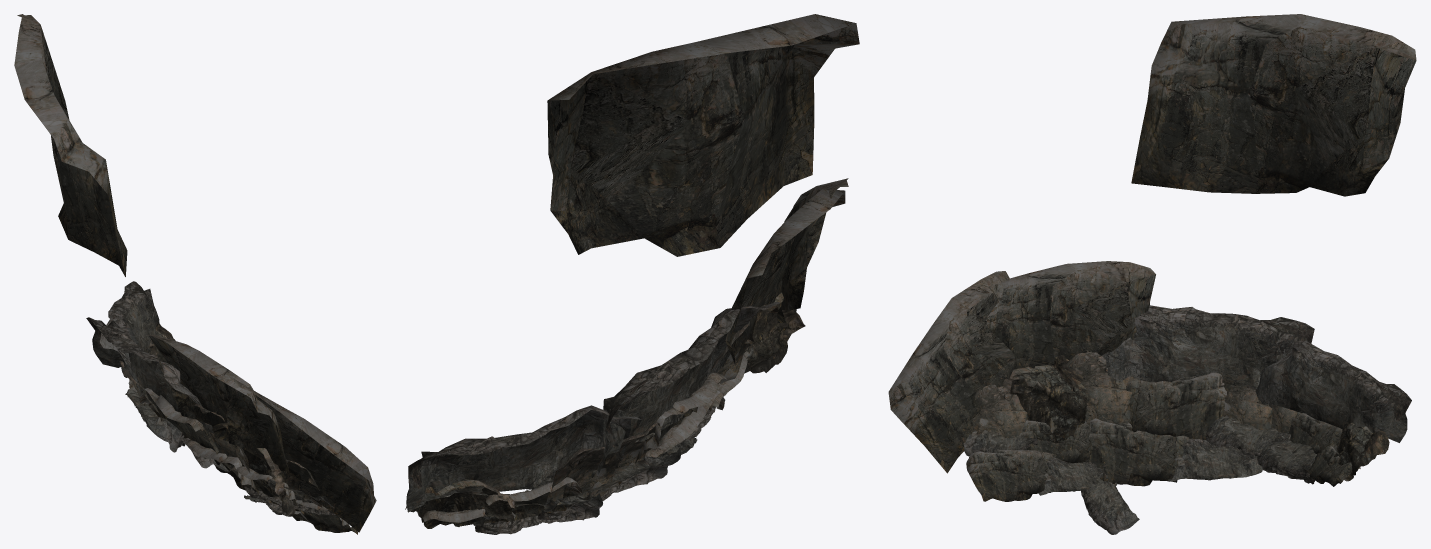
Rendered from PhonoShift_terrain.fbx.
3 views of the same model, side by side, from view 1: azimuth 30°, elevation 25°; view 2: azimuth 150°, elevation 25°; view 3: azimuth 270°, elevation 25° (orthographic). The views are drawn at different scales.
Parts seen in each view (by area): view 1: Rock6.012, Rock6.011, Rock6.010, Rock1.009, Rock1.010, Rock6.005, qjycI_LOD0_TIER3_002.005, Rock1.008, Rock6.006, Rock6.004, Rock6.007, qjycI_LOD0_TIER3_000.004 (+1 smaller); view 2: Rock6.012, Rock1.010, Rock1.009, Rock6.010, Rock6.011, qjycI_LOD0_TIER3_002.004, qjycI_LOD0_TIER3_002.005, Rock1.008, qjycI_LOD0_TIER3_000.006, Rock1.007, Rock6.009, Rock6.005 (+4 smaller); view 3: Rock6.012, Rock6.010, Rock6.011, Rock1.009, Rock1.010, Rock6.005, Rock6.004, qjycI_LOD0_TIER3_002.005, Rock6.006, qjycI_LOD0_TIER3_000.004, Rock1.004, qjycI_LOD0_TIER3_000.007 (+10 smaller).
Boxes of the visible parts, left/top/right/bottom form: Rock6.012: left=14, top=14, right=127, bottom=276; Rock6.011: left=226, top=379, right=376, bottom=532; Rock6.010: left=144, top=334, right=289, bottom=473; Rock1.009: left=86, top=317, right=213, bottom=433; Rock1.010: left=100, top=281, right=161, bottom=393; Rock6.005: left=139, top=388, right=219, bottom=465; qjycI_LOD0_TIER3_002.005: left=212, top=422, right=295, bottom=514; Rock1.008: left=125, top=389, right=185, bottom=452; Rock6.006: left=272, top=496, right=357, bottom=534; Rock6.004: left=184, top=440, right=271, bottom=502; Rock6.007: left=229, top=466, right=304, bottom=514; qjycI_LOD0_TIER3_000.004: left=192, top=403, right=250, bottom=474; Rock6.012: left=547, top=14, right=859, bottom=256; Rock1.010: left=406, top=405, right=641, bottom=512; Rock1.009: left=598, top=301, right=780, bottom=474; Rock6.010: left=725, top=189, right=845, bottom=365; Rock6.011: left=776, top=178, right=848, bottom=323; qjycI_LOD0_TIER3_002.004: left=405, top=479, right=514, bottom=528; qjycI_LOD0_TIER3_002.005: left=744, top=292, right=805, bottom=373; Rock1.008: left=537, top=448, right=680, bottom=519; qjycI_LOD0_TIER3_000.006: left=544, top=445, right=620, bottom=508; Rock1.007: left=473, top=493, right=602, bottom=534; Rock6.009: left=484, top=477, right=581, bottom=521; Rock6.005: left=618, top=372, right=726, bottom=484; Rock6.012: left=1131, top=14, right=1416, bottom=196; Rock6.010: left=986, top=261, right=1155, bottom=369; Rock6.011: left=888, top=271, right=1016, bottom=473; Rock1.009: left=1102, top=305, right=1314, bottom=388; Rock1.010: left=1255, top=340, right=1411, bottom=442; Rock6.005: left=1126, top=372, right=1226, bottom=439; Rock6.004: left=1089, top=418, right=1189, bottom=486; qjycI_LOD0_TIER3_002.005: left=1009, top=355, right=1087, bottom=443; Rock6.006: left=966, top=449, right=1052, bottom=501; qjycI_LOD0_TIER3_000.004: left=1065, top=352, right=1133, bottom=425; Rock1.004: left=1168, top=438, right=1262, bottom=481; qjycI_LOD0_TIER3_000.007: left=972, top=378, right=1027, bottom=438.
Size of the model in its own units: 6957 by 12813 by 14189.
